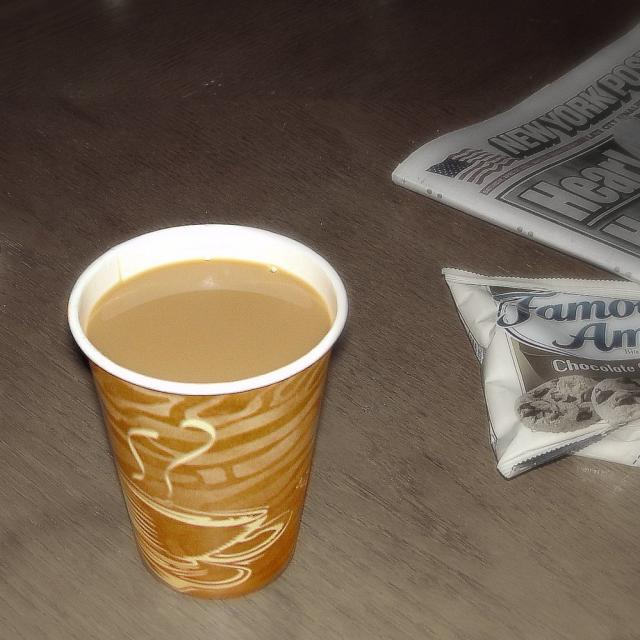Coffee: (84, 226, 353, 624)
Tea: (82, 258, 330, 384)
